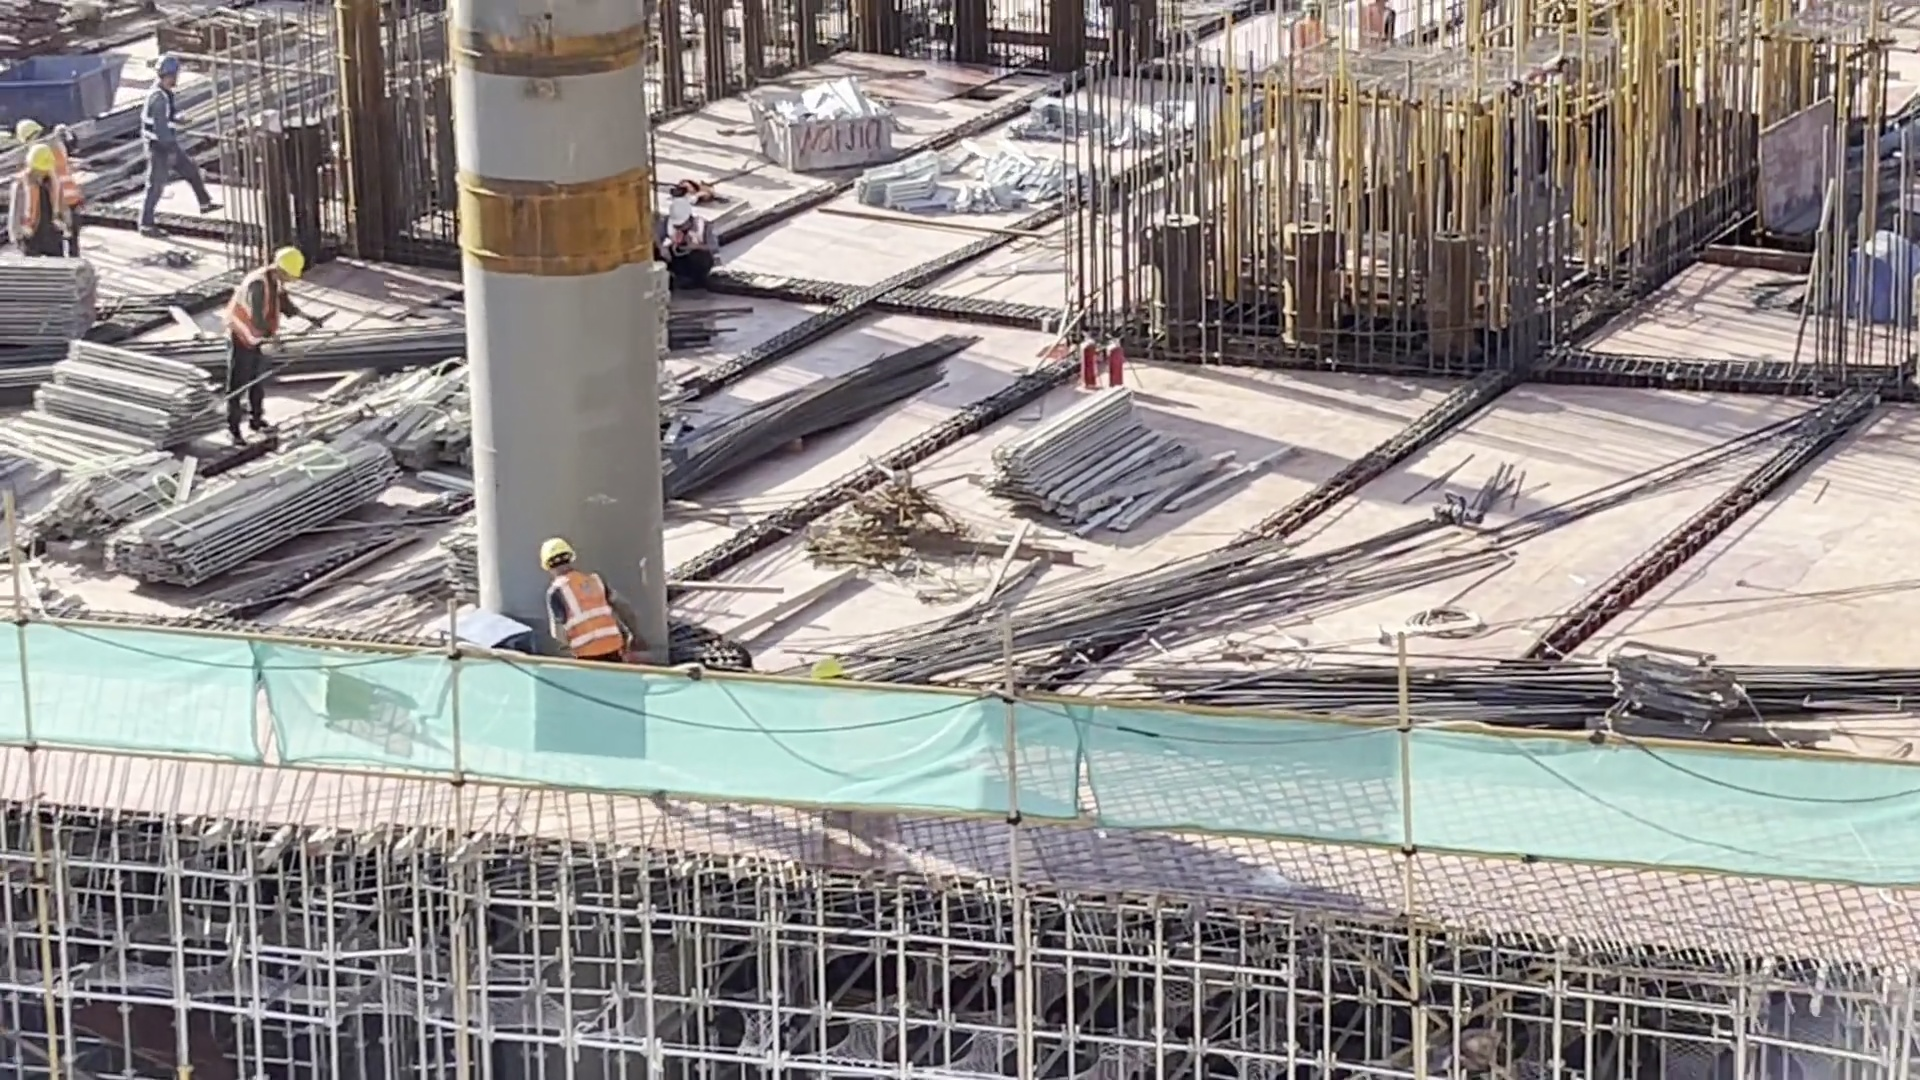helmet: (23, 135, 60, 175), (149, 48, 184, 80), (540, 537, 577, 565), (274, 245, 300, 278)
hopper: (743, 67, 908, 178), (1, 42, 134, 132)
person: (217, 230, 300, 457), (129, 45, 215, 237), (515, 535, 628, 674), (7, 146, 84, 260), (640, 189, 711, 291)
vest: (226, 263, 292, 360), (545, 586, 621, 658), (14, 179, 73, 235), (141, 89, 181, 141)
wood: (140, 413, 378, 587), (993, 394, 1196, 537), (32, 330, 215, 461), (1, 250, 117, 369)
